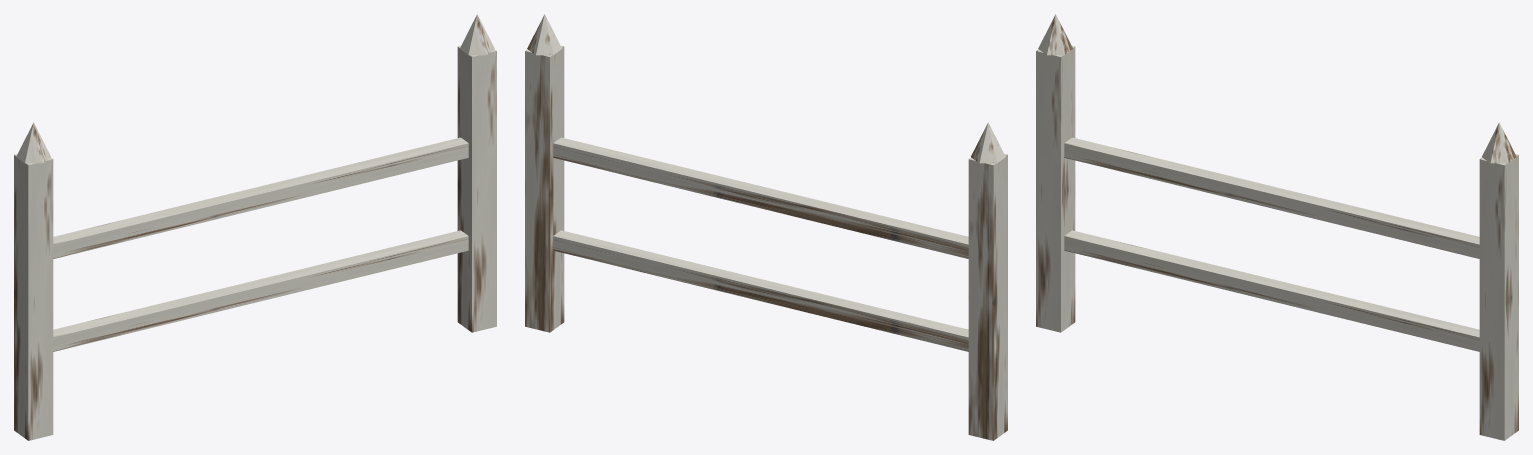
File: fence.glb
3 views of the same model, side by side, from view 1: azimuth 30°, elevation 25°; view 2: azimuth 150°, elevation 25°; view 3: azimuth 330°, elevation 25° (orthographic).
Visible parts, largest first — view 1: Fence_Post_-1, Fence_Post_+1, Fence_Rail_0.62, Fence_Rail_0.30, Fence_Cap_+1, Fence_Cap_-1; view 2: Fence_Post_-1, Fence_Post_+1, Fence_Rail_0.62, Fence_Rail_0.30, Fence_Cap_+1, Fence_Cap_-1; view 3: Fence_Post_+1, Fence_Post_-1, Fence_Rail_0.62, Fence_Rail_0.30, Fence_Cap_-1, Fence_Cap_+1.
Boxes of the visible parts, x1,y1,x2,y2 form: Fence_Post_-1: (14, 154, 53, 440); Fence_Post_+1: (457, 46, 496, 332); Fence_Rail_0.62: (53, 137, 468, 258); Fence_Rail_0.30: (53, 230, 468, 351); Fence_Cap_+1: (460, 14, 494, 55); Fence_Cap_-1: (16, 122, 50, 163); Fence_Post_-1: (968, 154, 1007, 440); Fence_Post_+1: (525, 46, 564, 332); Fence_Rail_0.62: (553, 137, 968, 258); Fence_Rail_0.30: (553, 230, 968, 351); Fence_Cap_+1: (527, 14, 561, 55); Fence_Cap_-1: (971, 122, 1005, 163); Fence_Post_+1: (1479, 154, 1518, 440); Fence_Post_-1: (1036, 46, 1075, 332); Fence_Rail_0.62: (1064, 137, 1479, 258); Fence_Rail_0.30: (1064, 230, 1479, 351); Fence_Cap_-1: (1038, 14, 1072, 55); Fence_Cap_+1: (1482, 122, 1516, 163).
Bounding box in the file's own units: 1.7 × 1.07 × 0.11.
1 material, 1 textured.
